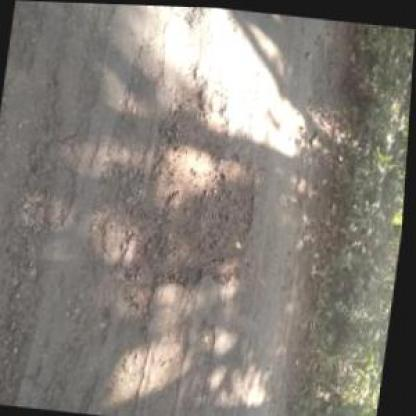pothole: (118, 70, 273, 304)
